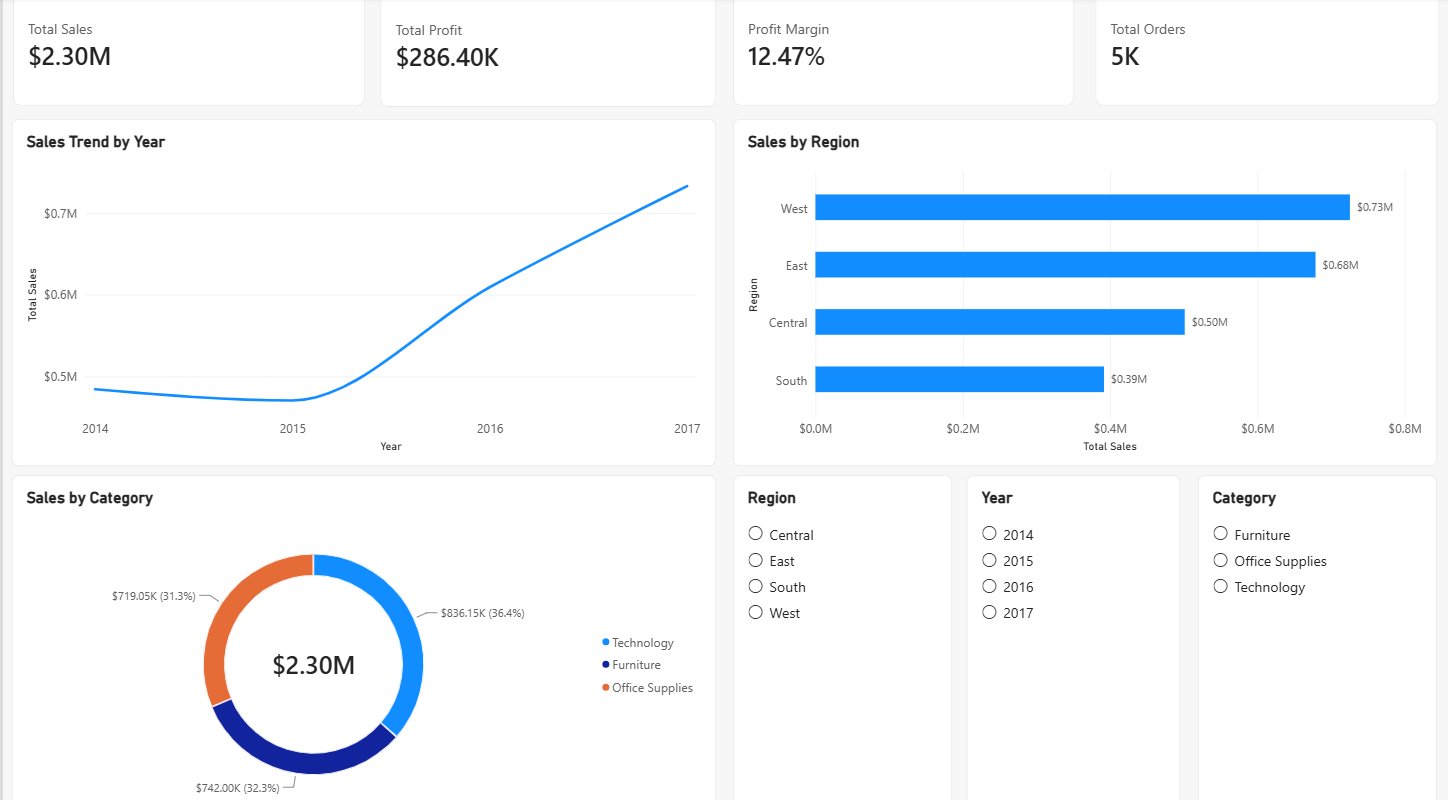

This screenshot's page, from the dashboard's own definition file:
{"tool":"powerbi","page":{"name":"Executive Summary","canvas":[1920,1080],"ordinal":1},"visuals":[{"type":"cardVisual","fields":{"Data":["FactSales.Total Sales"]},"box":[11,0,402,139],"z":0},{"type":"cardVisual","fields":{"Data":["FactSales.Total Profit"]},"box":[432,1,383,139],"z":1000},{"type":"cardVisual","fields":{"Data":["FactSales.Profit Margin"]},"box":[834,0,390,139],"z":2000},{"type":"cardVisual","fields":{"Data":["FactSales.Total Orders"]},"box":[1248,0,393,139],"z":3000},{"type":"lineChart","title":"Sales Trend by Year","fields":{"Category":["DimDate.Year"],"Y":["FactSales.Total Sales"]},"box":[10,154,805,397],"z":4000},{"type":"clusteredBarChart","title":"Sales by Region","fields":{"Category":["DimRegion.Region"],"Y":["FactSales.Total Sales"]},"box":[834,154,805,397],"z":5000},{"type":"donutChart","title":"Sales by Category","fields":{"Category":["DimProduct.Category"],"Y":["FactSales.Total Sales"]},"box":[10,561,805,397],"z":6000},{"type":"listSlicer","fields":{"Values":["DimRegion.Region"]},"box":[834,561,250,397],"z":7000},{"type":"listSlicer","fields":{"Values":["DimDate.Year"]},"box":[1102,561,244,397],"z":8000},{"type":"listSlicer","fields":{"Values":["DimProduct.Category"]},"box":[1366,561,273,397],"z":9000}]}

Visuals, with their boxes in screenshot pixels (x1, y1, x2, y2), scaled from the page's 1920x1080 canvas onto the 1448x800 screenshot:
cardVisual - FactSales.Total Sales: BBox(8, 0, 311, 103)
cardVisual - FactSales.Total Profit: BBox(326, 1, 615, 104)
cardVisual - FactSales.Profit Margin: BBox(629, 0, 923, 103)
cardVisual - FactSales.Total Orders: BBox(941, 0, 1238, 103)
"Sales Trend by Year" lineChart: BBox(8, 114, 615, 408)
"Sales by Region" clusteredBarChart: BBox(629, 114, 1236, 408)
"Sales by Category" donutChart: BBox(8, 416, 615, 710)
listSlicer - DimRegion.Region: BBox(629, 416, 818, 710)
listSlicer - DimDate.Year: BBox(831, 416, 1015, 710)
listSlicer - DimProduct.Category: BBox(1030, 416, 1236, 710)
